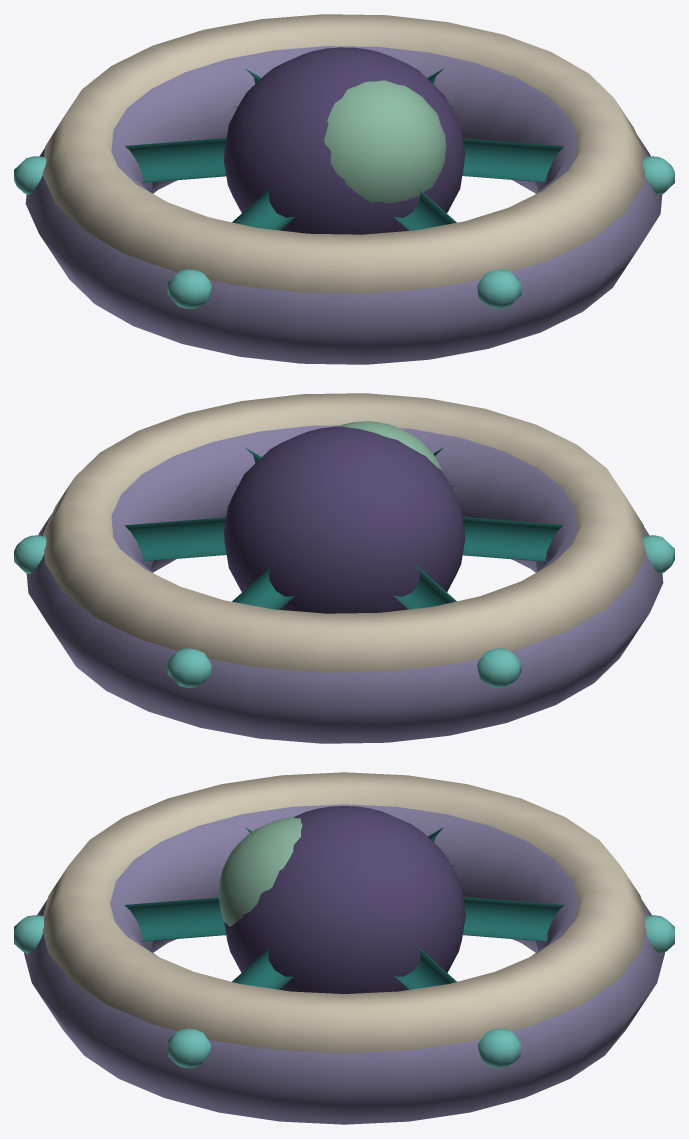
File: alien-carrier-lod1.glb
3 renders of one model, top to bottom at view 1: azimuth 30°, elevation 25°; view 2: azimuth 150°, elevation 25°; view 3: azimuth 270°, elevation 25°, orthographic.
Visible parts, largest first — view 1: shell, emission; view 2: shell, emission; view 3: shell, emission.
Part boxes in pixels (x1=…): shell: x1=25, y1=14, x2=662, y2=364; emission: x1=14, y1=156, x2=674, y2=308; shell: x1=26, y1=393, x2=663, y2=743; emission: x1=14, y1=535, x2=674, y2=687; shell: x1=24, y1=772, x2=664, y2=1124; emission: x1=14, y1=915, x2=674, y2=1068.
Size of the model in its own units: 2.64 by 0.9751 by 2.72.
